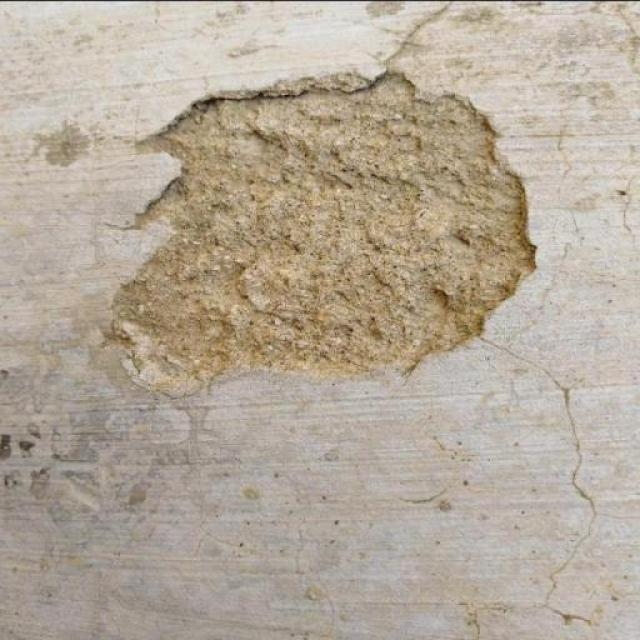D10: (105, 68, 535, 391)
